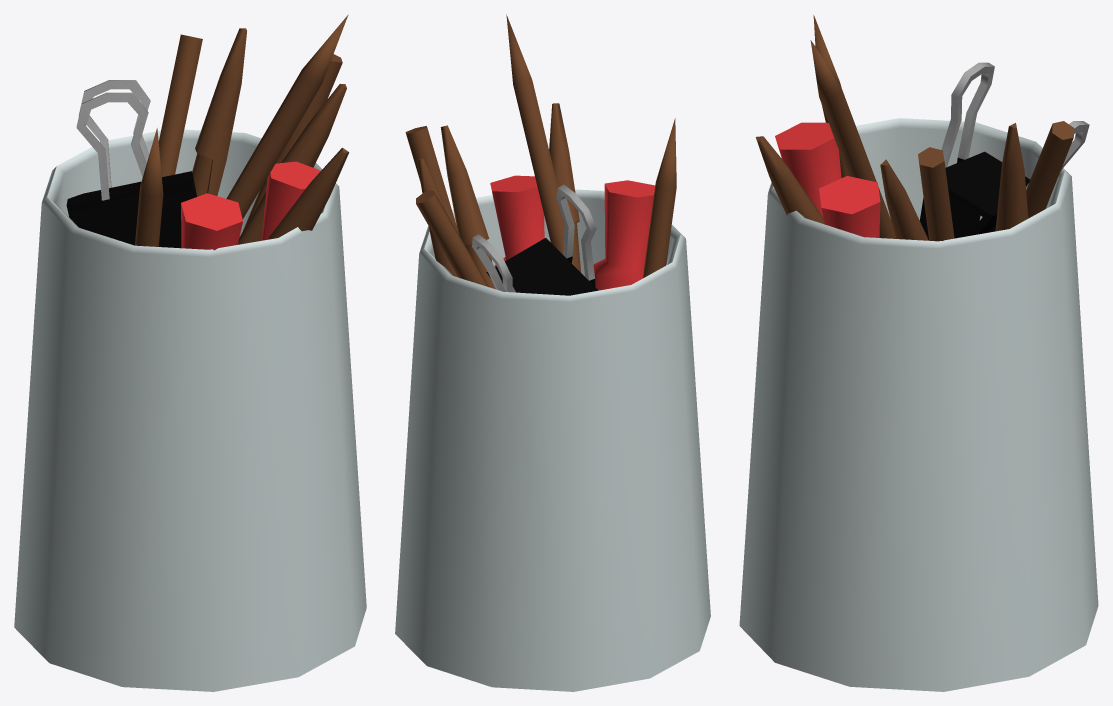
File: WritingUtensil_Containers._2.fbx
3 views of the same model, side by side, from view 1: azimuth 30°, elevation 25°; view 2: azimuth 150°, elevation 25°; view 3: azimuth 270°, elevation 25° (orthographic). The views are drawn at different scales.
Visible parts, largest first — view 1: WritingUtensil_Containers._2; view 2: WritingUtensil_Containers._2; view 3: WritingUtensil_Containers._2.
Boxes of the visible parts, x1,y1,x2,y2 form: WritingUtensil_Containers._2: (14, 14, 366, 691); WritingUtensil_Containers._2: (395, 14, 710, 691); WritingUtensil_Containers._2: (739, 15, 1098, 691).
Bounding box in the file's own units: 15.32 × 29.13 × 15.07.
